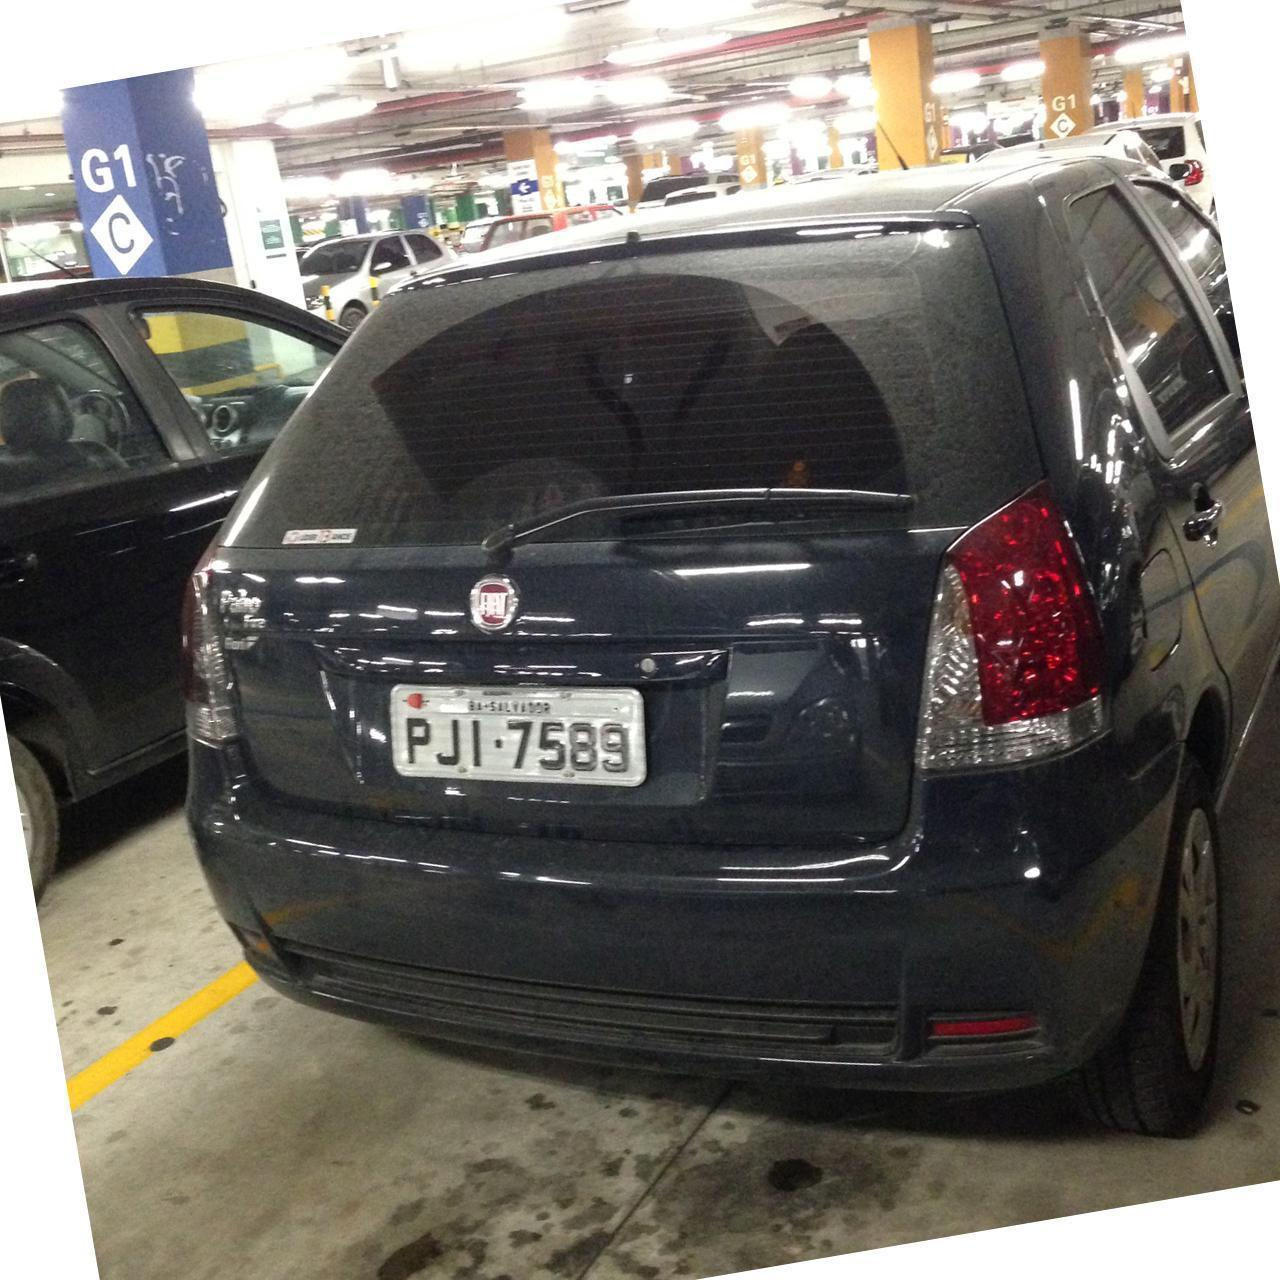placa de veiculo: (368, 674, 681, 820)
